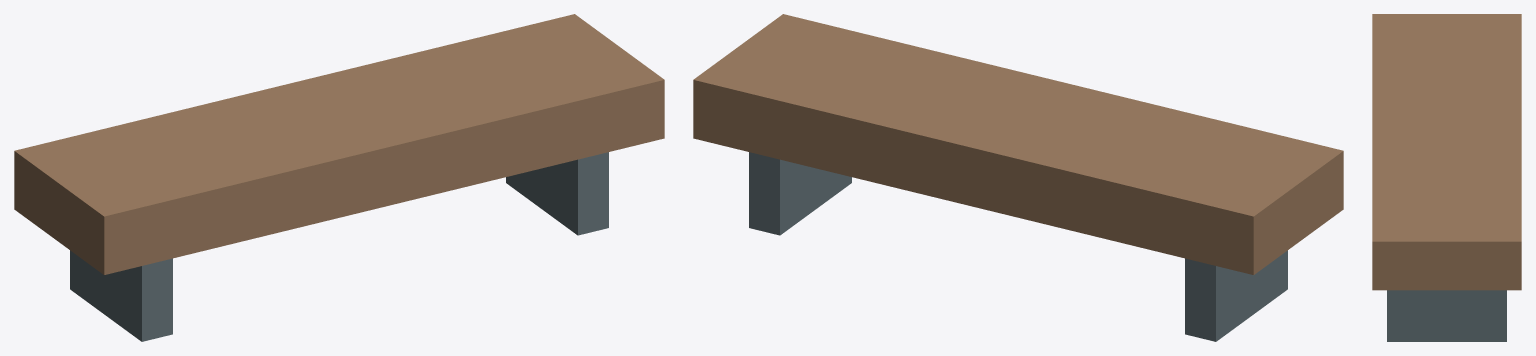
File: bench.glb
3 views of the same model, side by side, from view 1: azimuth 30°, elevation 25°; view 2: azimuth 150°, elevation 25°; view 3: azimuth 270°, elevation 25° (orthographic). The views are drawn at different scales.
Bounding box in the file's own units: 1.8 × 0.44 × 0.5.
